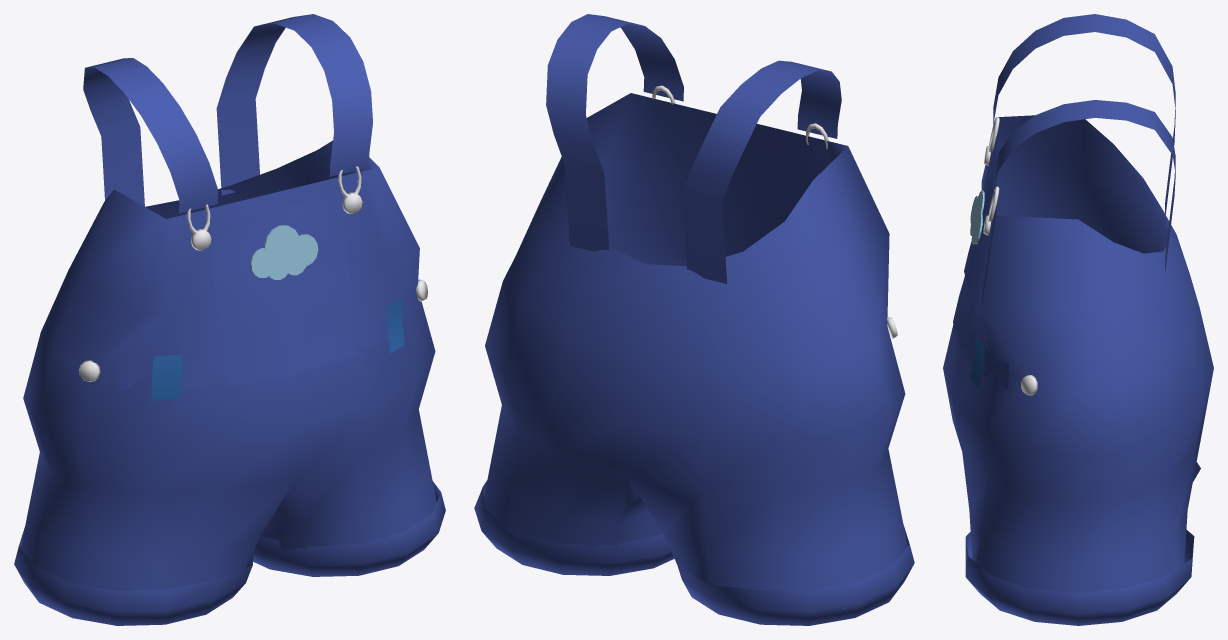
The model's file is overol.glb.
3 renders of one model, left to right at view 1: azimuth 30°, elevation 25°; view 2: azimuth 150°, elevation 25°; view 3: azimuth 270°, elevation 25°, orthographic. The views are drawn at different scales.
Parts seen in each view (by area): view 1: Overol_Cuerpo, Tirante_D, Bolsillo_Peto, Tirante_I, Dobladillo_I, Pretina, Dobladillo_D, Nube, Presilla_I, Presilla_D; view 2: Overol_Cuerpo, Tirante_D, Tirante_I, Dobladillo_I, Dobladillo_D; view 3: Overol_Cuerpo, Dobladillo_D, Tirante_I, Tirante_D, Pretina, Bolsillo_Peto, Nube, Presilla_D.
Part boxes in pixels (<box>): Overol_Cuerpo: <box>21,140,436,613</box>; Tirante_D: <box>216,14,372,195</box>; Bolsillo_Peto: <box>209,192,349,325</box>; Tirante_I: <box>83,58,218,213</box>; Dobladillo_I: <box>14,527,254,625</box>; Pretina: <box>119,290,413,390</box>; Dobladillo_D: <box>253,481,445,576</box>; Nube: <box>250,225,318,279</box>; Presilla_I: <box>151,354,182,401</box>; Presilla_D: <box>386,299,404,353</box>; Overol_Cuerpo: <box>484,93,907,608</box>; Tirante_D: <box>546,14,683,251</box>; Tirante_I: <box>682,60,841,283</box>; Dobladillo_I: <box>678,525,914,625</box>; Dobladillo_D: <box>474,480,674,575</box>; Overol_Cuerpo: <box>943,115,1213,608</box>; Dobladillo_D: <box>965,530,1194,625</box>; Tirante_I: <box>993,14,1175,219</box>; Tirante_D: <box>993,100,1175,272</box>; Pretina: <box>953,282,1008,389</box>; Bolsillo_Peto: <box>964,149,991,293</box>; Nube: <box>970,190,984,244</box>; Presilla_D: <box>969,336,984,387</box>.
Bounding box in the file's own units: 6.14 × 7.38 × 3.82.
